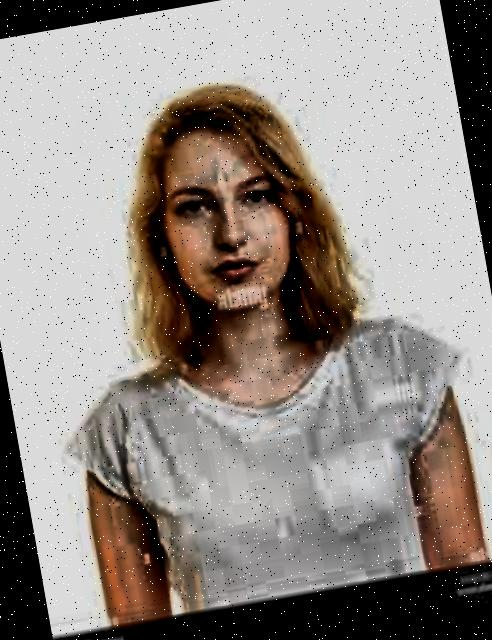neutral: (143, 98, 315, 347)
